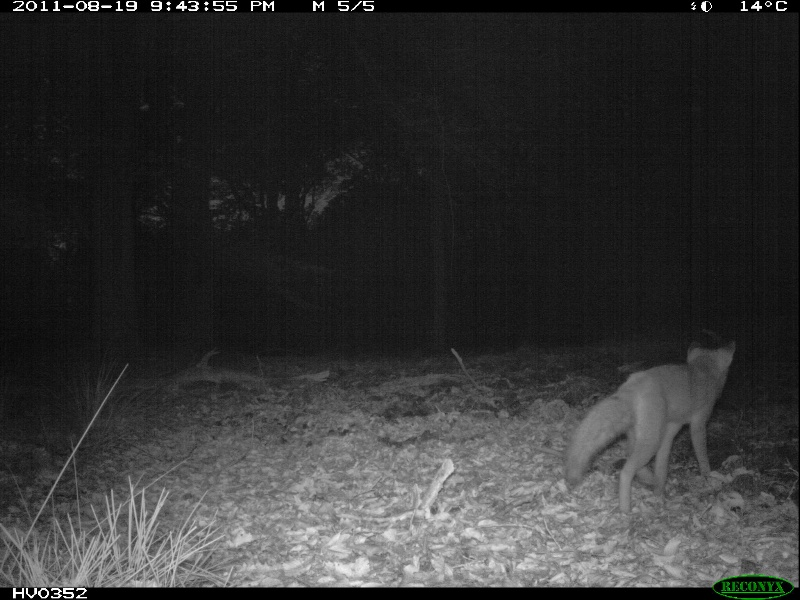fox: (558, 335, 743, 521)
